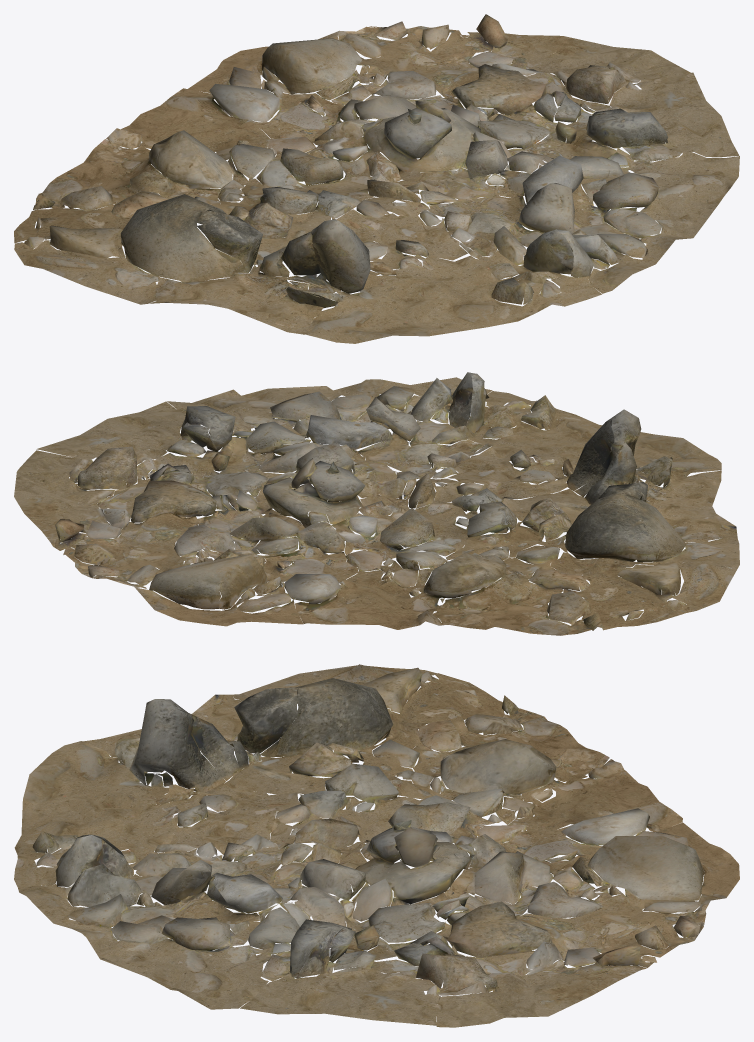
The model's file is sand_rocks_small_01_LOD1.fbx.
3 renders of one model, top to bottom at view 1: azimuth 30°, elevation 25°; view 2: azimuth 150°, elevation 25°; view 3: azimuth 270°, elevation 25°, orthographic. The views are drawn at different scales.
Visible parts, largest first — view 1: sand_rocks_small_01.001; view 2: sand_rocks_small_01.001; view 3: sand_rocks_small_01.001.
Part boxes in pixels (x1,y1,x2,y2): sand_rocks_small_01.001: (14,14,739,343); sand_rocks_small_01.001: (14,372,739,635); sand_rocks_small_01.001: (14,664,739,1027).
Size of the model in its own units: 4.63 by 3.88 by 0.5294.
